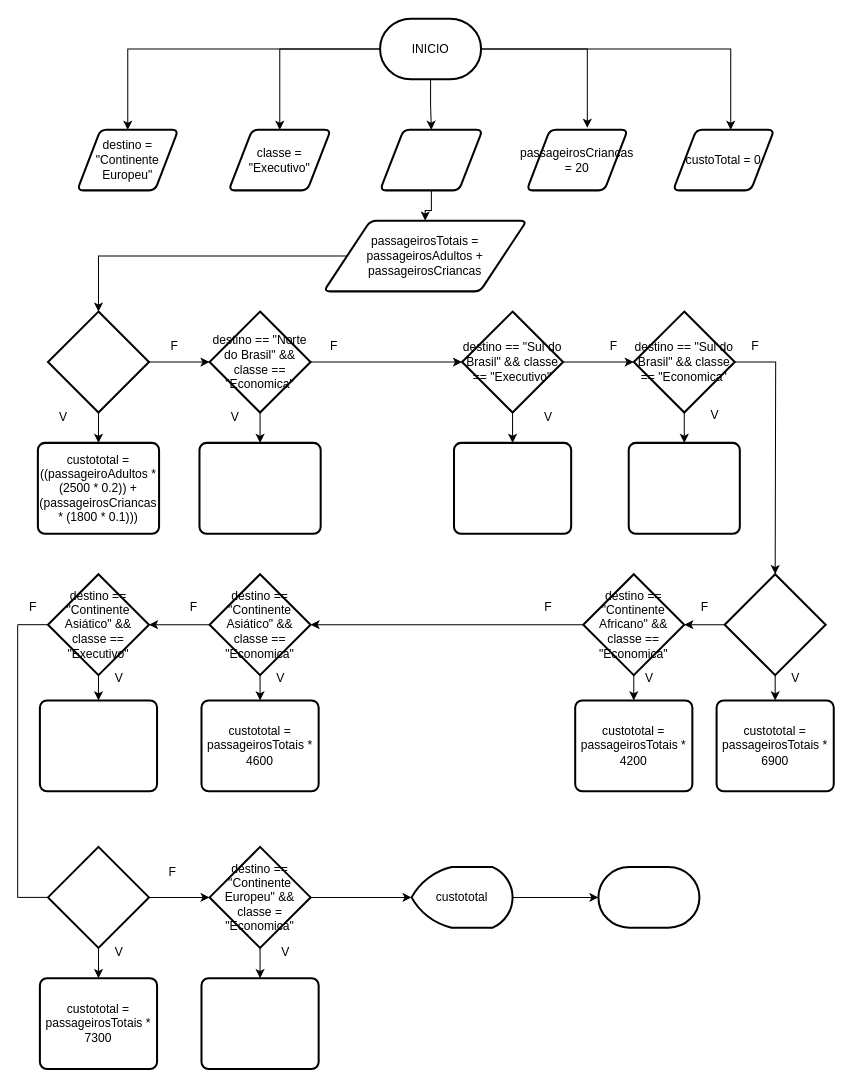
Image size: 852x1087. Some labels were removed from this diagram. Each missing label, with the centre of its shape:
custototal = ((passageiroAdultos * 2500) + (passageirosCriancas * 1800)): point 259,487
custototal = passageirosTotais * 200: point 683,487
custototal = passageirosTotais * 400: point 512,487
custototal = passageirosTotais * 5800: point 259,1023
custototal = passageirosTotais * 6000: point 98,745
destino == "Continente Africano" && classe == "Executivo": point 774,624
destino == "Continente Europeu" && classe == "Executivo": point 97,896
destino == "Norte do Brasil" && classe == "Executivo": point 97,361
FIM: point 648,897
passageirosAdultos = 20: point 431,159
